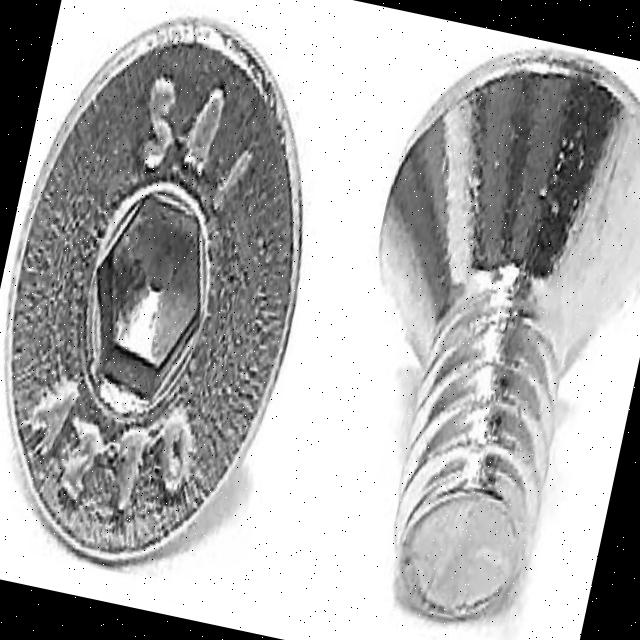Hex Socket Allen: (0, 0, 356, 590)
